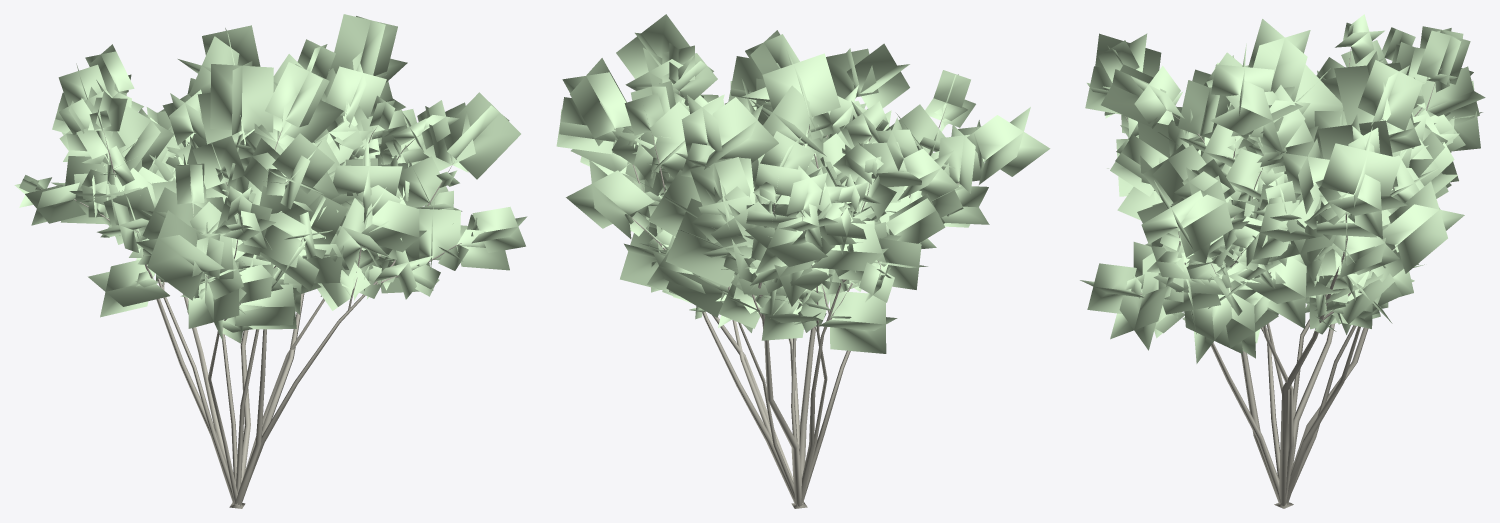
File: bush_2_v0_lod0.glb
The picture shows the model from 3 angles, left to right: view 1: azimuth 30°, elevation 25°; view 2: azimuth 150°, elevation 25°; view 3: azimuth 270°, elevation 25°; orthographic projection. The views are drawn at different scales.
Parts seen in each view (by area): view 1: Leaves, Branches; view 2: Leaves, Branches; view 3: Leaves, Branches.
Boxes of the visible parts, bbox=[...] form: Leaves: bbox=[14, 14, 527, 343]; Branches: bbox=[40, 127, 461, 508]; Leaves: bbox=[556, 14, 1050, 353]; Branches: bbox=[630, 91, 979, 508]; Leaves: bbox=[1080, 14, 1485, 363]; Branches: bbox=[1125, 49, 1434, 508].
Bounding box in the file's own units: 28.24 × 30.46 × 23.33.
